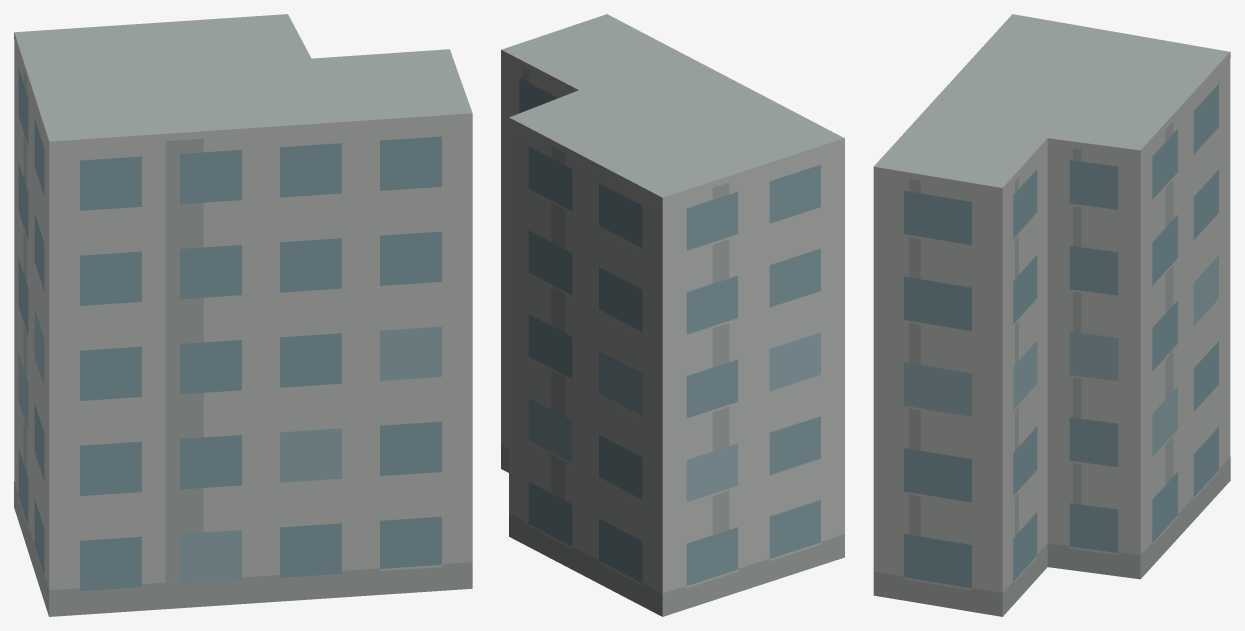
Rendered from survey-upis-32528831.glb.
3 renders of one model, left to right at view 1: azimuth 30°, elevation 25°; view 2: azimuth 150°, elevation 25°; view 3: azimuth 270°, elevation 25°, orthographic. The views are drawn at different scales.
Visible parts, largest first — view 1: survey-upis-32528831.tmp; view 2: survey-upis-32528831.tmp; view 3: survey-upis-32528831.tmp.
Part boxes in pixels (box(x1,y1,x2,y2)): survey-upis-32528831.tmp: box(14, 14, 472, 616); survey-upis-32528831.tmp: box(501, 14, 844, 616); survey-upis-32528831.tmp: box(873, 14, 1230, 616).
Bounding box in the file's own units: 13.63 × 15.65 × 11.81.
